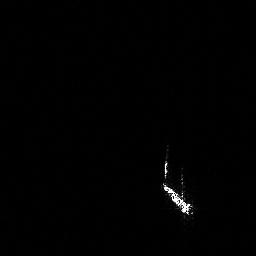ship: (159, 179, 196, 217)
